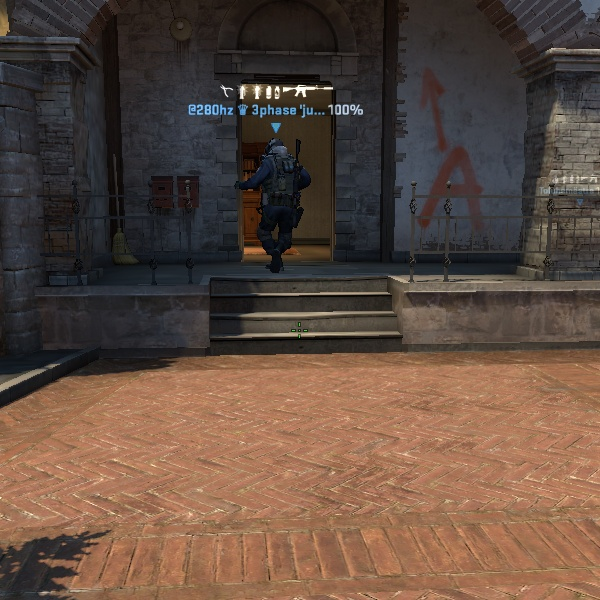ct_body: (238, 130, 319, 278)
ct_head: (259, 132, 293, 164)
